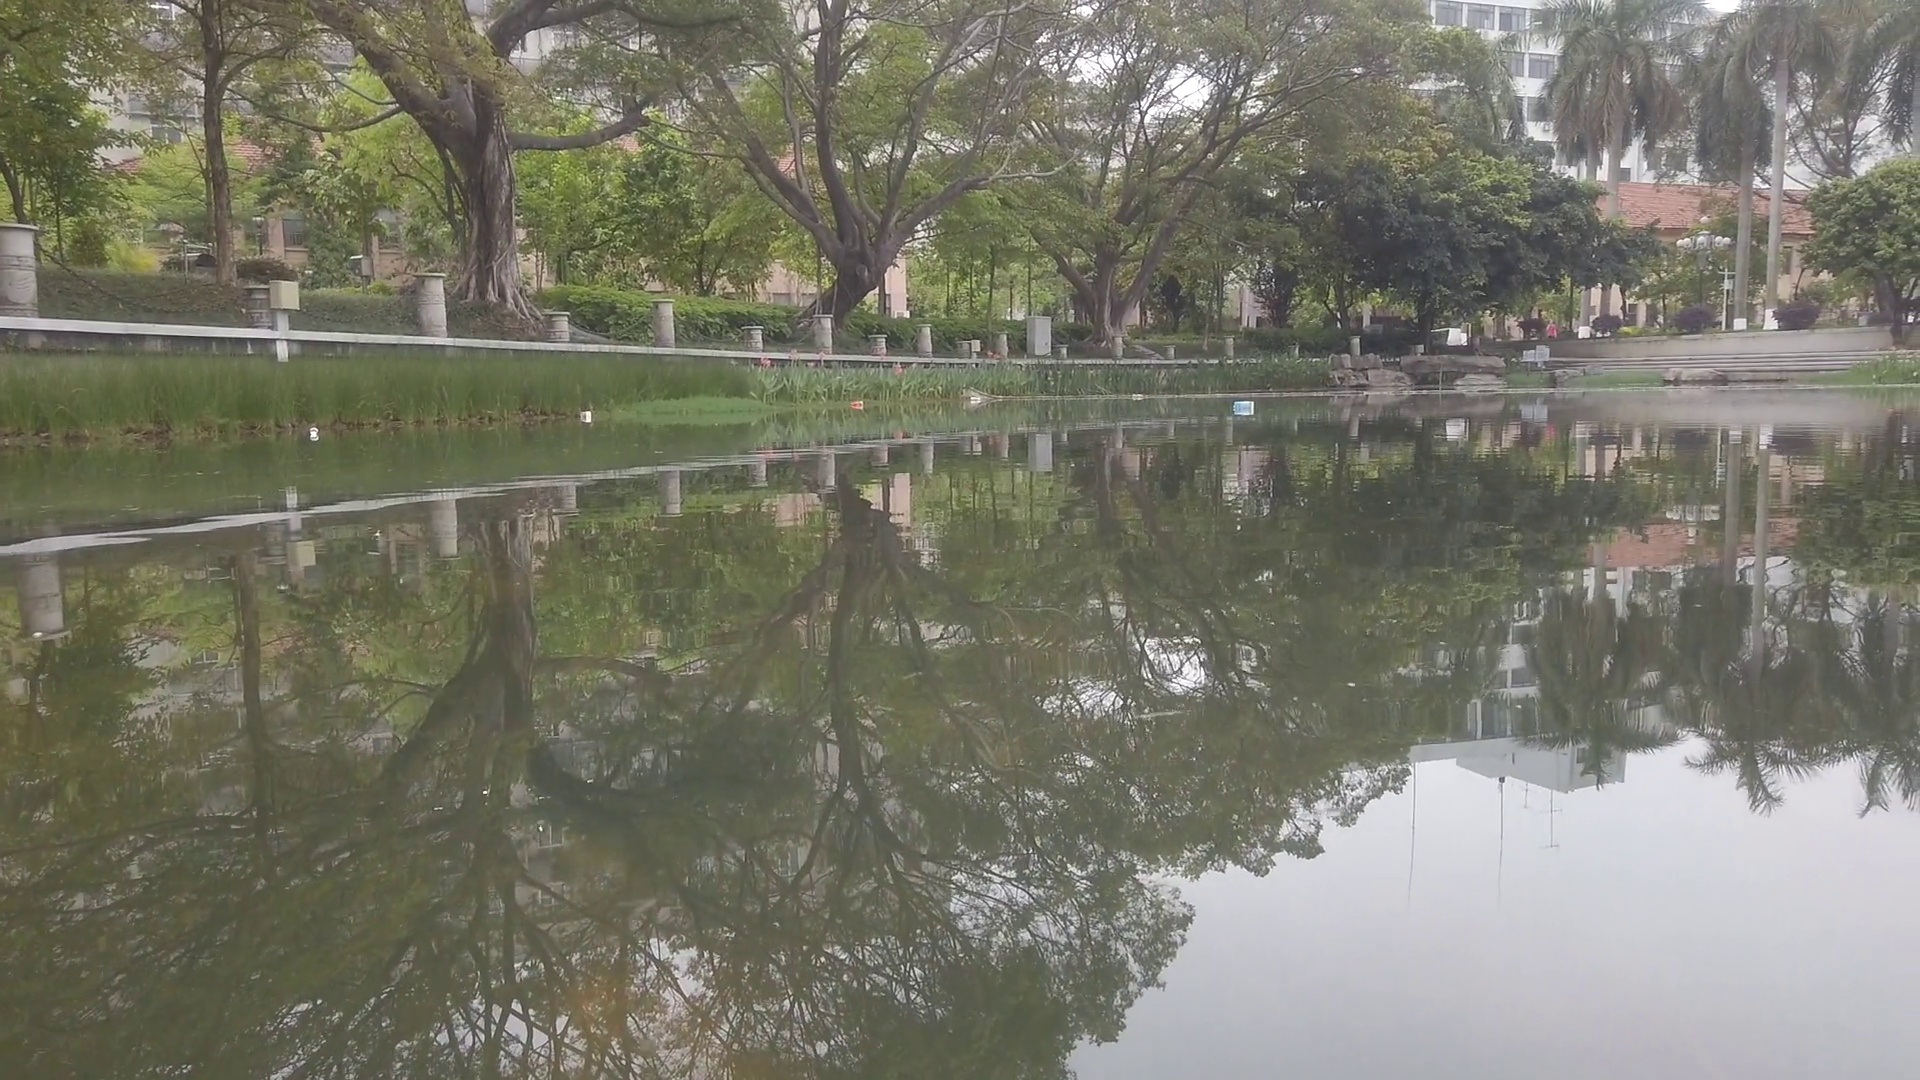bottle: (309, 427, 319, 439), (1131, 393, 1145, 402), (849, 400, 864, 407), (971, 396, 981, 404)
carton: (1233, 401, 1255, 411), (578, 410, 592, 425)
